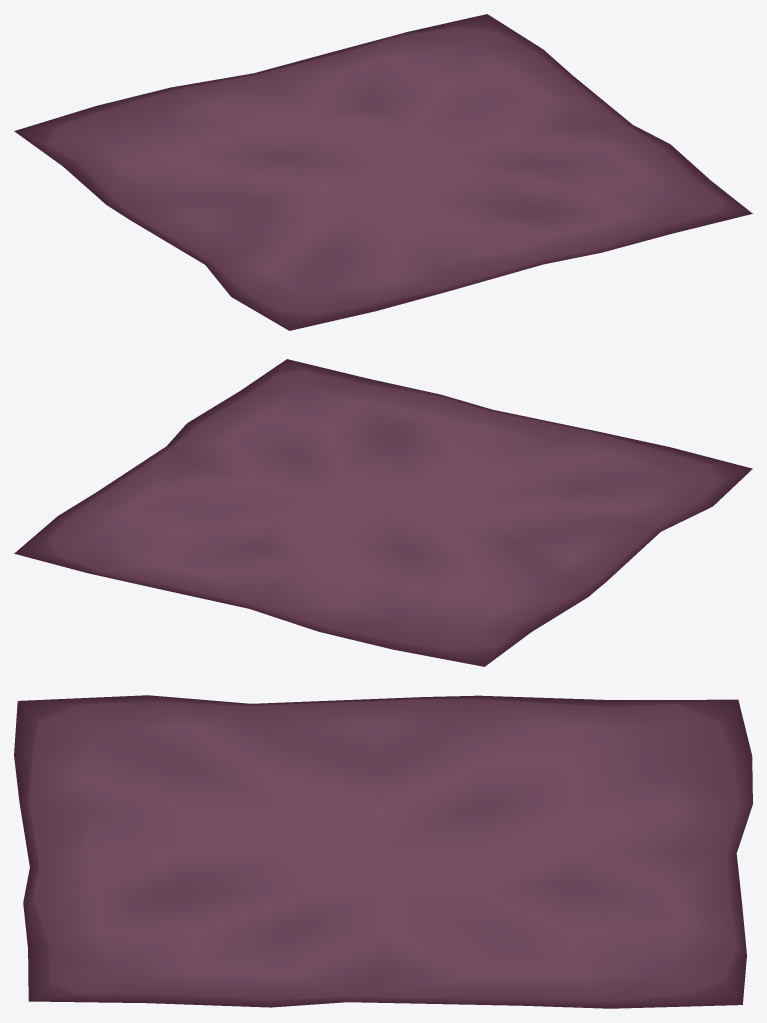
File: TSP_Rug_04C.fbx
3 views of the same model, one above another, from view 1: azimuth 30°, elevation 25°; view 2: azimuth 150°, elevation 25°; view 3: azimuth 270°, elevation 25° (orthographic). The views are drawn at different scales.
Visible parts, largest first — view 1: TSP_Rug_04C; view 2: TSP_Rug_04C; view 3: TSP_Rug_04C.
Boxes of the visible parts, x1,y1,x2,y2 form: TSP_Rug_04C: (14,14,752,330); TSP_Rug_04C: (14,359,752,666); TSP_Rug_04C: (14,695,752,1008).
Size of the model in its own units: 6.76 by 0.0225 by 6.73.
